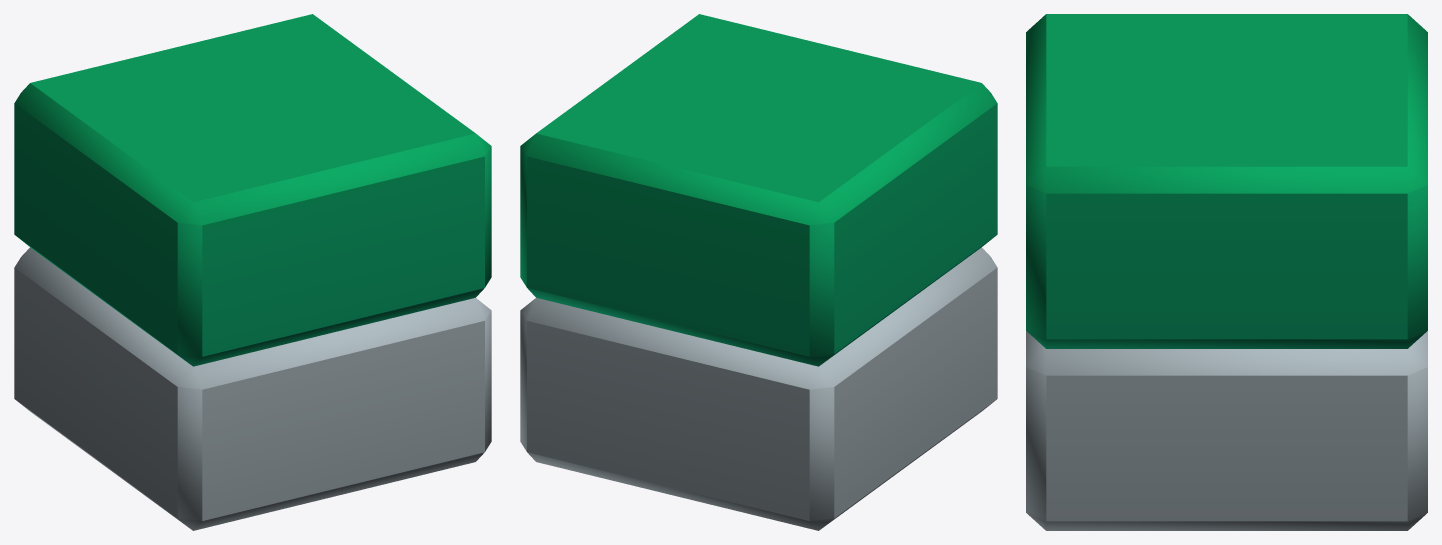
The model's file is platform_1x1x1_green.glb.
3 renders of one model, left to right at view 1: azimuth 30°, elevation 25°; view 2: azimuth 150°, elevation 25°; view 3: azimuth 270°, elevation 25°, orthographic. The views are drawn at different scales.
Parts seen in each view (by area): view 1: platform_1x1x1_green; view 2: platform_1x1x1_green; view 3: platform_1x1x1_green.
Boxes of the visible parts, x1,y1,x2,y2 form: platform_1x1x1_green: [14, 14, 491, 530]; platform_1x1x1_green: [520, 14, 997, 530]; platform_1x1x1_green: [1026, 14, 1427, 530].
Bounding box in the file's own units: 1 × 1 × 1.
Materials: 1 (1 with a texture image).
